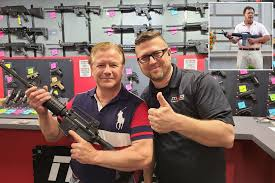gun: (1, 61, 115, 158), (43, 4, 106, 20)
